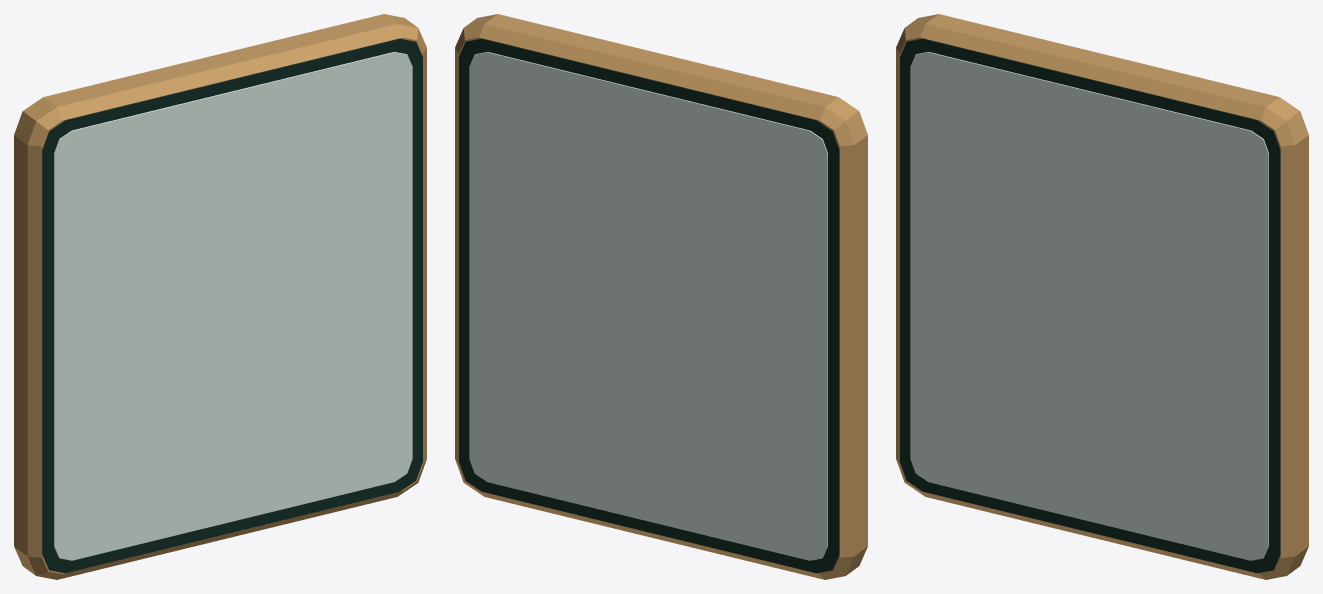
Rendered from sign_blade_panel.glb.
3 views of the same model, side by side, from view 1: azimuth 30°, elevation 25°; view 2: azimuth 150°, elevation 25°; view 3: azimuth 330°, elevation 25° (orthographic).
Visible parts, largest first — view 1: sign_blade_panel; view 2: sign_blade_panel; view 3: sign_blade_panel.
Boxes of the visible parts, x1,y1,x2,y2 form: sign_blade_panel: [14, 14, 426, 579]; sign_blade_panel: [455, 14, 867, 579]; sign_blade_panel: [896, 14, 1308, 579].
Size of the model in its own units: 0.38 by 0.43 by 0.043.
